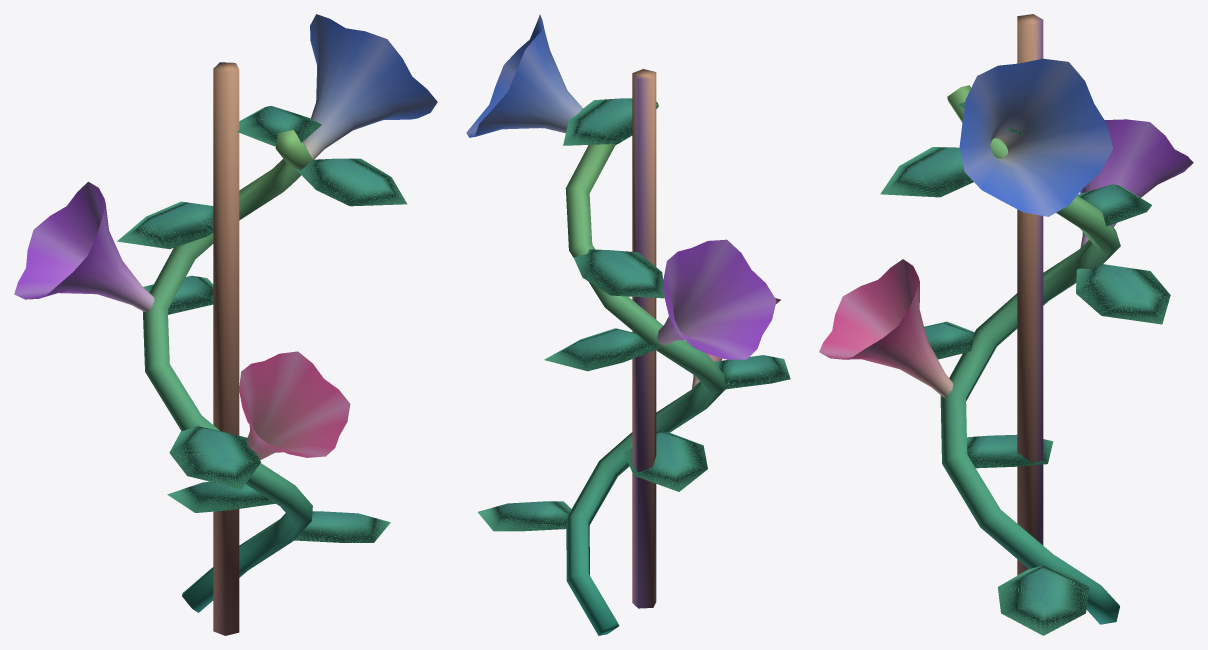
Rendered from verdant_flower_trumpet.glb.
The picture shows the model from 3 angles, left to right: view 1: azimuth 30°, elevation 25°; view 2: azimuth 150°, elevation 25°; view 3: azimuth 270°, elevation 25°; orthographic projection. The views are drawn at different scales.
Visible parts, largest first — view 1: verdant_flower_trumpet; view 2: verdant_flower_trumpet; view 3: verdant_flower_trumpet.
Boxes of the visible parts, x1,y1,x2,y2 form: verdant_flower_trumpet: [14, 14, 437, 635]; verdant_flower_trumpet: [466, 14, 790, 635]; verdant_flower_trumpet: [819, 14, 1193, 635].
Size of the model in its own units: 0.6357 by 1.05 by 0.5734.
